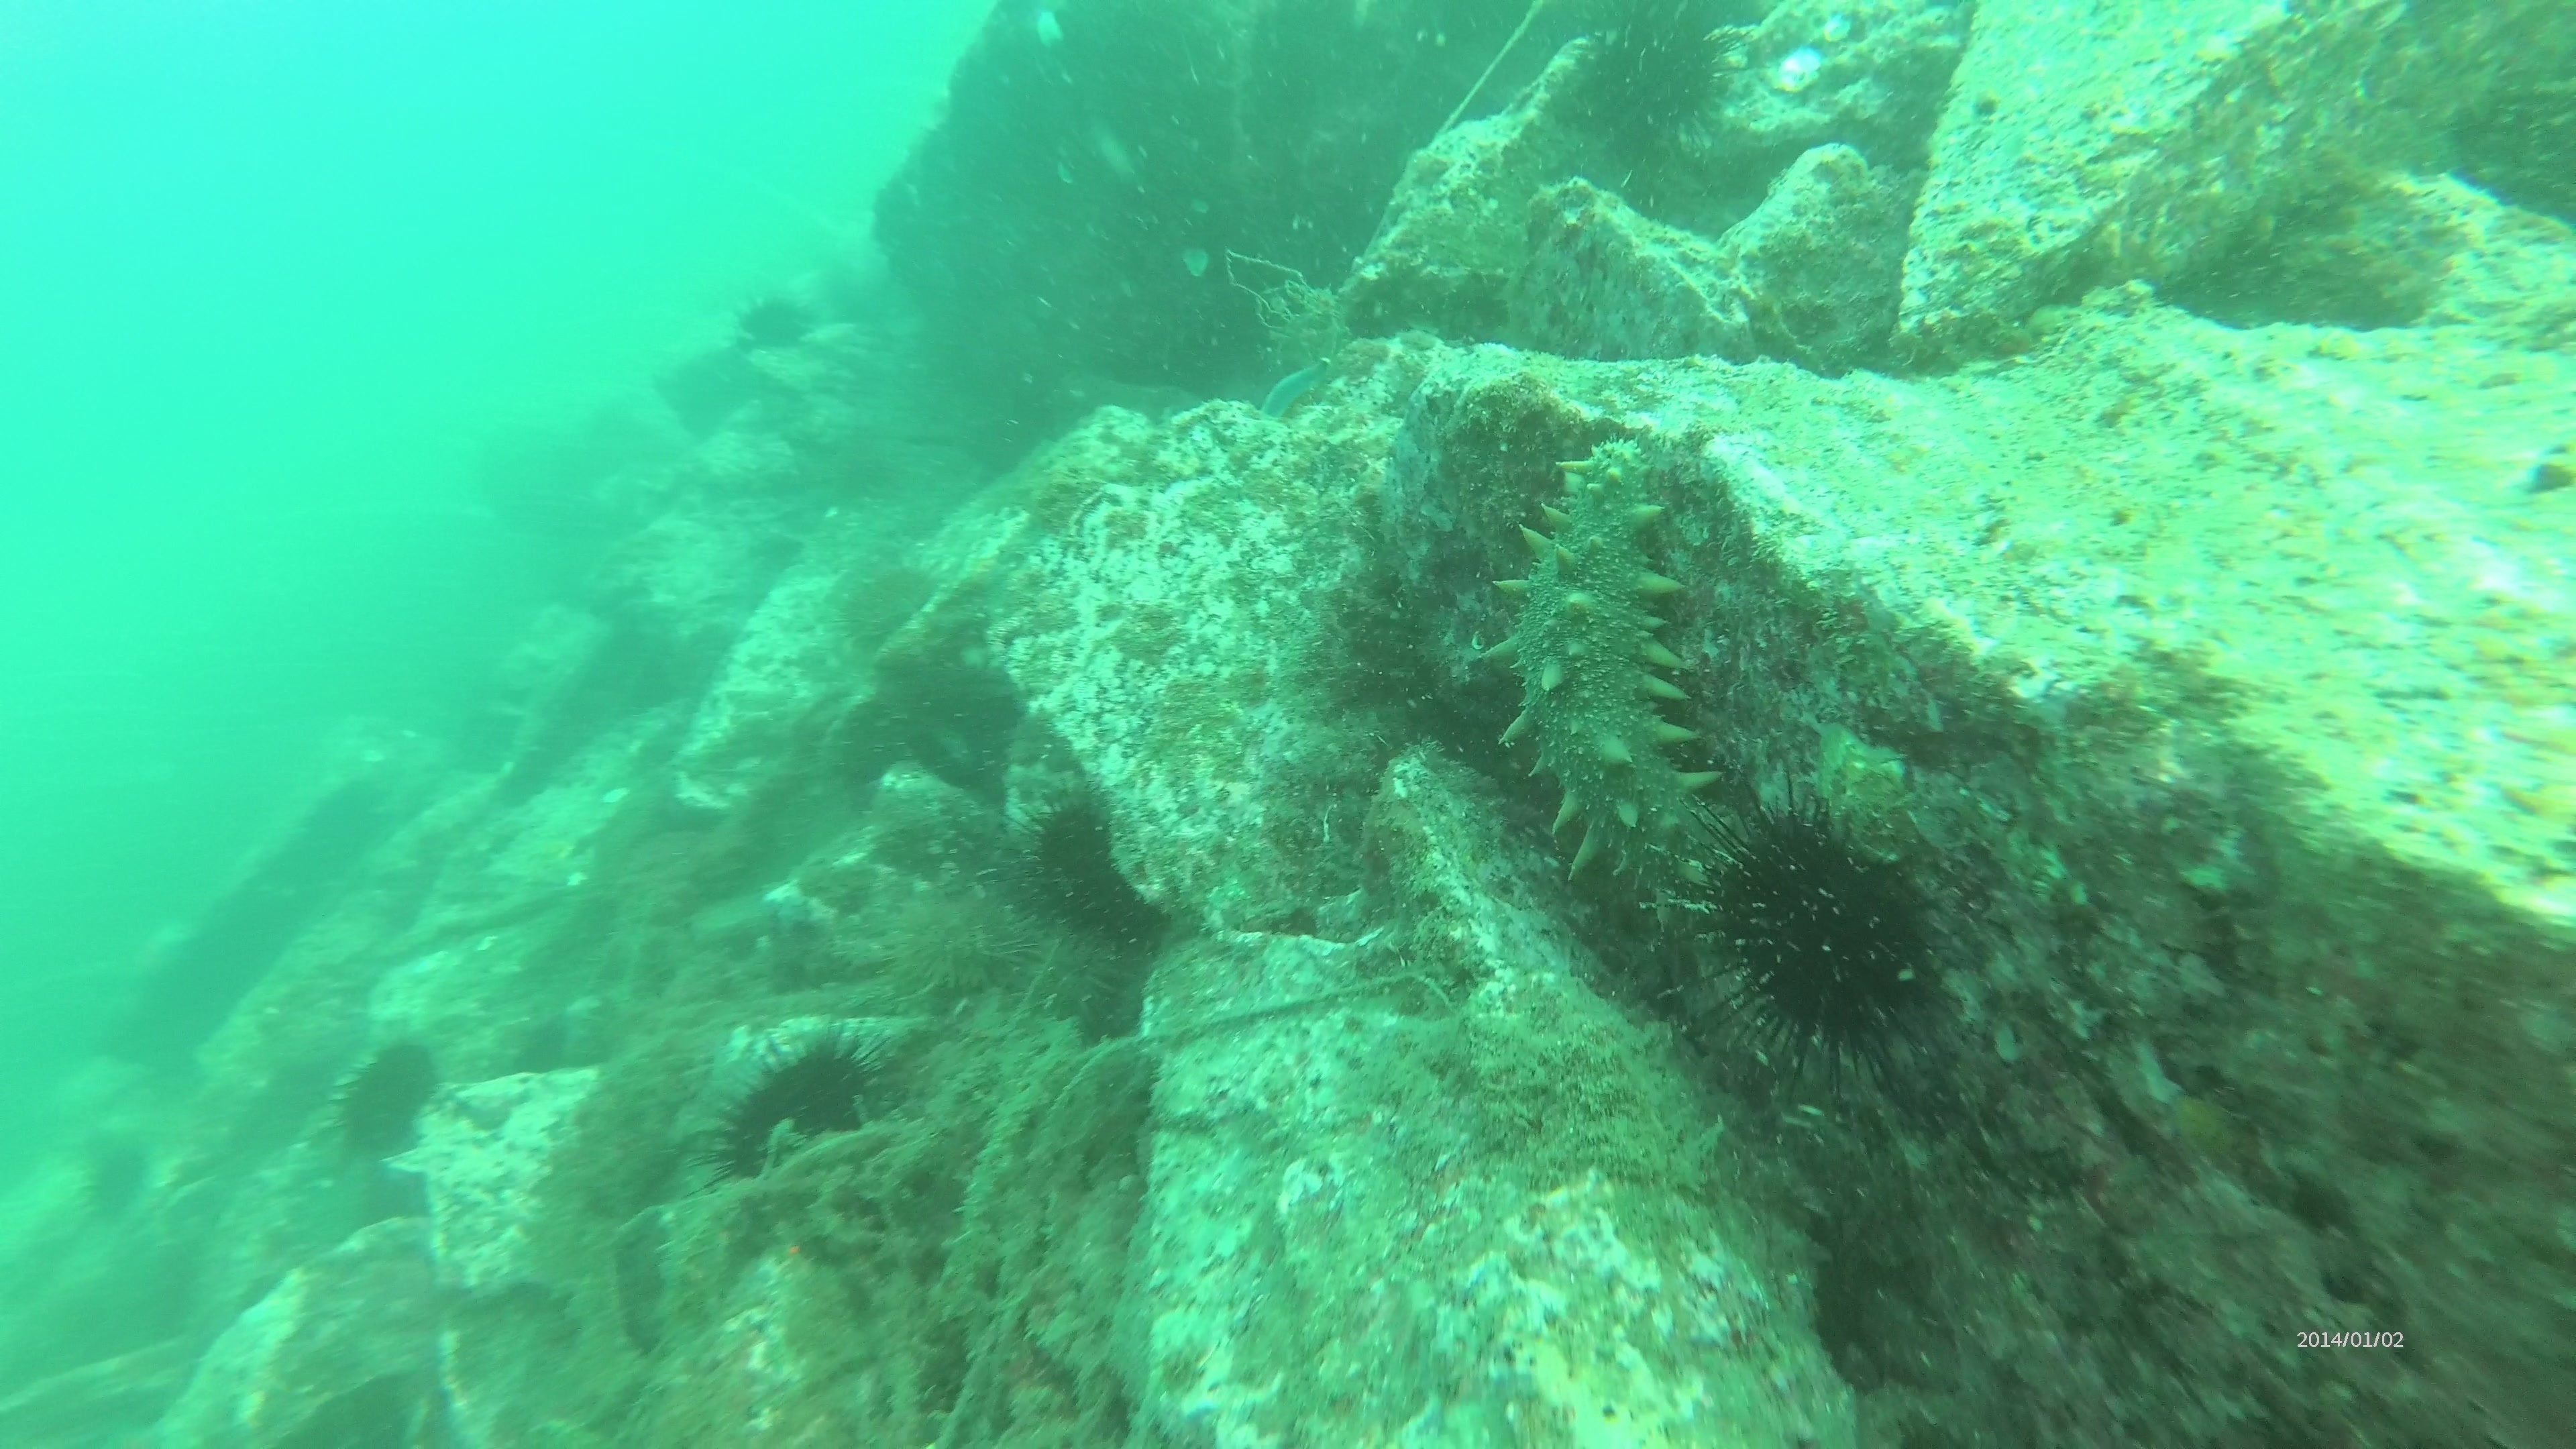echinus: (1684, 789, 1955, 1079), (701, 1026, 886, 1194), (1560, 5, 1744, 163), (1014, 786, 1169, 950), (872, 872, 1035, 1014), (327, 1033, 448, 1166), (73, 1129, 157, 1224), (731, 285, 819, 357)
holothurian: (1476, 439, 1727, 938)
starfish: (1253, 354, 1338, 425)
